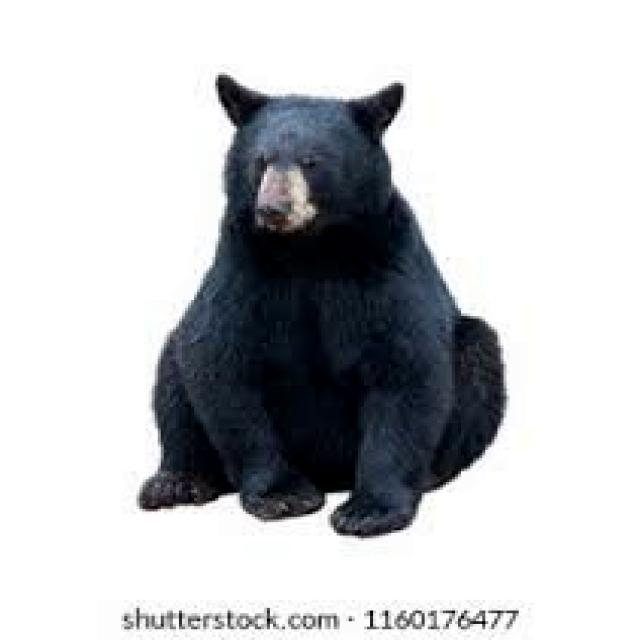bear: (168, 59, 499, 551)
